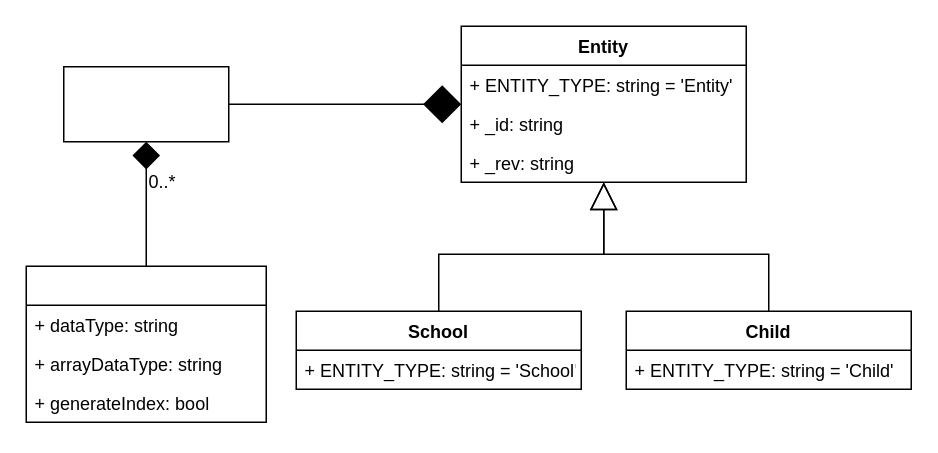
Image size: 938x453. Some labels were removed from this diagram. Each missing label, with the box of its shape:
EntitySchema: (62, 65, 229, 142)
EntitySchemaField: (25, 265, 266, 422)
